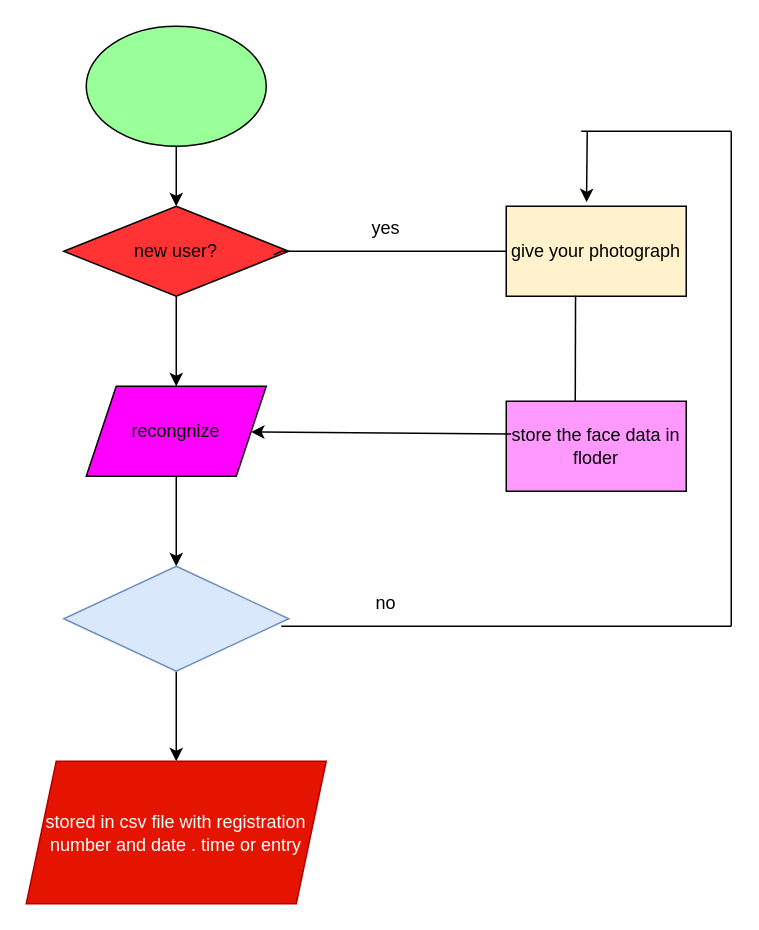
Some shapes in this 759 by 930 pixel diagram are drawn without their labels. The shapes that lost their labels are listed below. From the top down, each one's box as (x1, y1, x2, y2) in pixels, then its label:
(85, 25, 266, 146): start
(62, 565, 289, 671): face recongized
